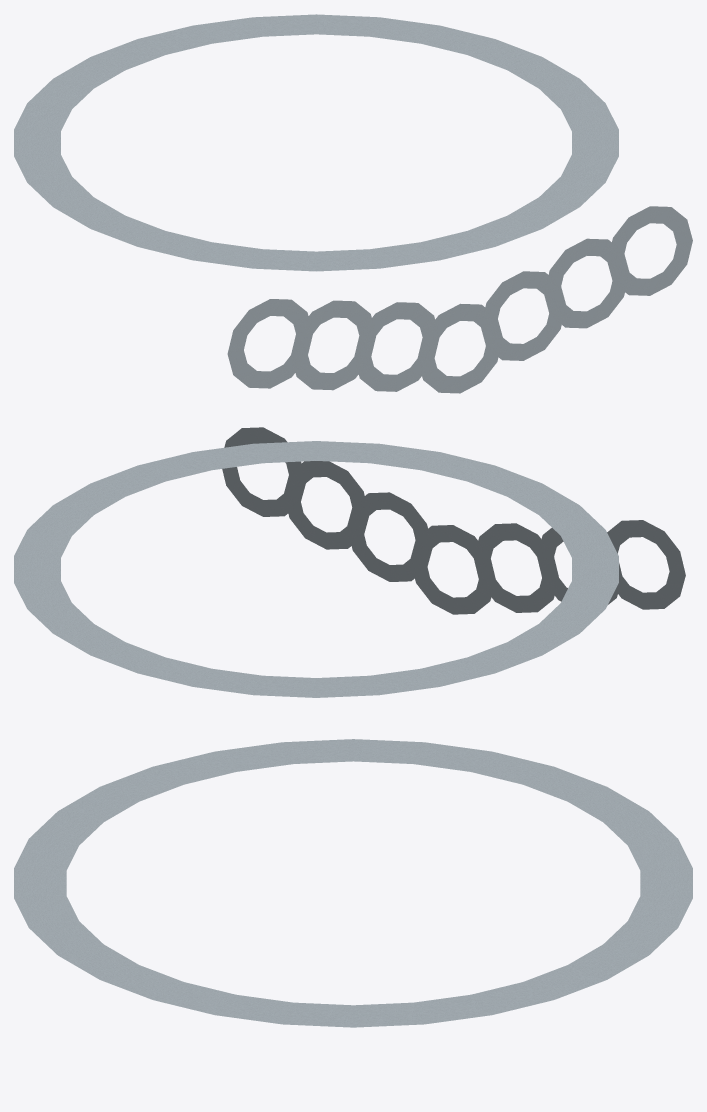
The model's file is reference_chain_necklace.gltf.
The picture shows the model from 3 angles, top to bottom: view 1: azimuth 30°, elevation 25°; view 2: azimuth 150°, elevation 25°; view 3: azimuth 270°, elevation 25°; orthographic projection. The views are drawn at different scales.
Visible parts, largest first — view 1: Chain Necklace; view 2: Chain Necklace; view 3: Chain Necklace.
Boxes of the visible parts, x1,y1,x2,y2 form: Chain Necklace: (14, 14, 692, 393); Chain Necklace: (14, 427, 685, 697); Chain Necklace: (14, 739, 692, 1027).
Bounding box in the file's own units: 0.258 × 0.068 × 0.2566.
1 material, 1 textured.
